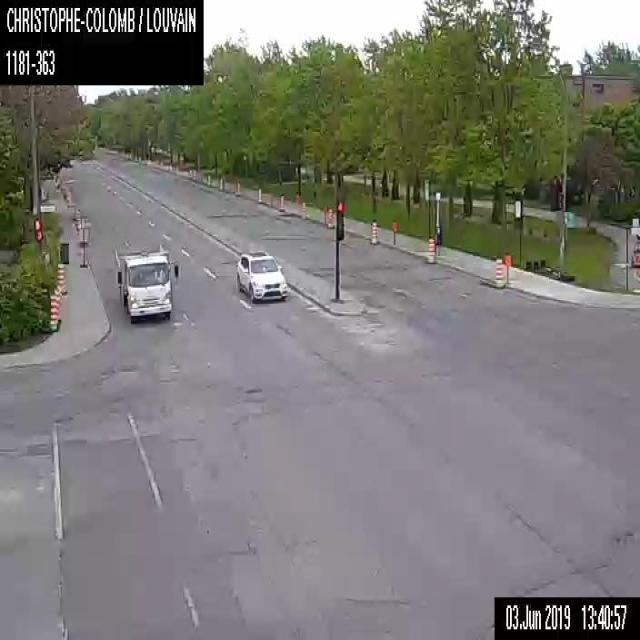construction: (493, 257, 504, 287), (49, 294, 58, 330), (57, 262, 67, 294), (54, 288, 60, 328), (426, 234, 434, 262), (504, 254, 511, 283), (390, 220, 398, 245), (370, 219, 377, 244), (326, 207, 333, 228), (58, 286, 62, 322), (300, 201, 305, 219), (279, 193, 284, 210), (322, 205, 326, 223), (236, 178, 240, 194), (257, 187, 261, 202), (218, 176, 222, 190), (192, 169, 196, 181), (206, 173, 210, 185), (189, 168, 192, 180)
vehicle: (116, 246, 178, 322), (236, 248, 288, 303)
